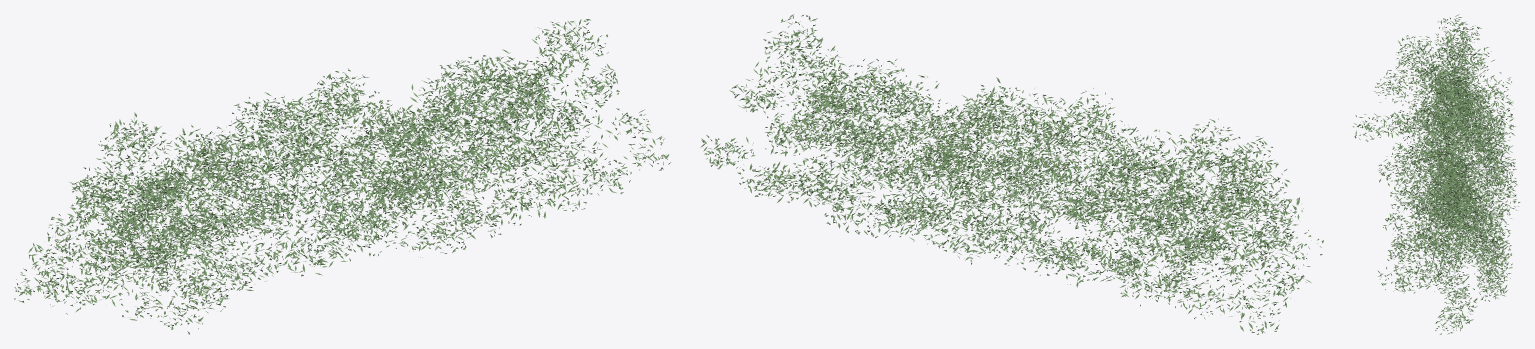
File: xiyuan-vegetation-26-medium.glb
3 views of the same model, side by side, from view 1: azimuth 30°, elevation 25°; view 2: azimuth 150°, elevation 25°; view 3: azimuth 270°, elevation 25° (orthographic). The views are drawn at different scales.
Visible parts, largest first — view 1: vegetation cedar leaves.001; view 2: vegetation cedar leaves.001; view 3: vegetation cedar leaves.001.
Part boxes in pixels (bbox=[...]): vegetation cedar leaves.001: bbox=[14, 19, 670, 334]; vegetation cedar leaves.001: bbox=[700, 14, 1323, 334]; vegetation cedar leaves.001: bbox=[1352, 14, 1520, 334].
Size of the model in its own units: 38.66 by 11.18 by 12.03.
